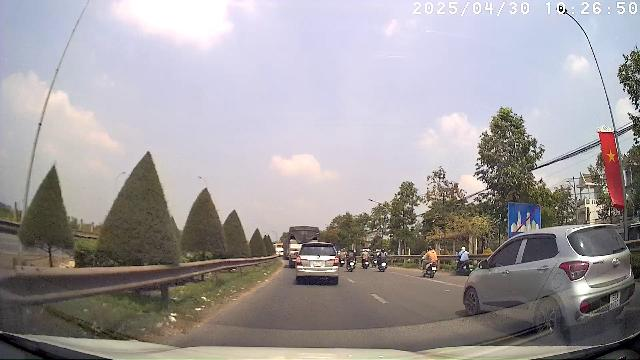421-ket-thuc-khu-dong-dan-cu: (508, 202, 540, 233)
